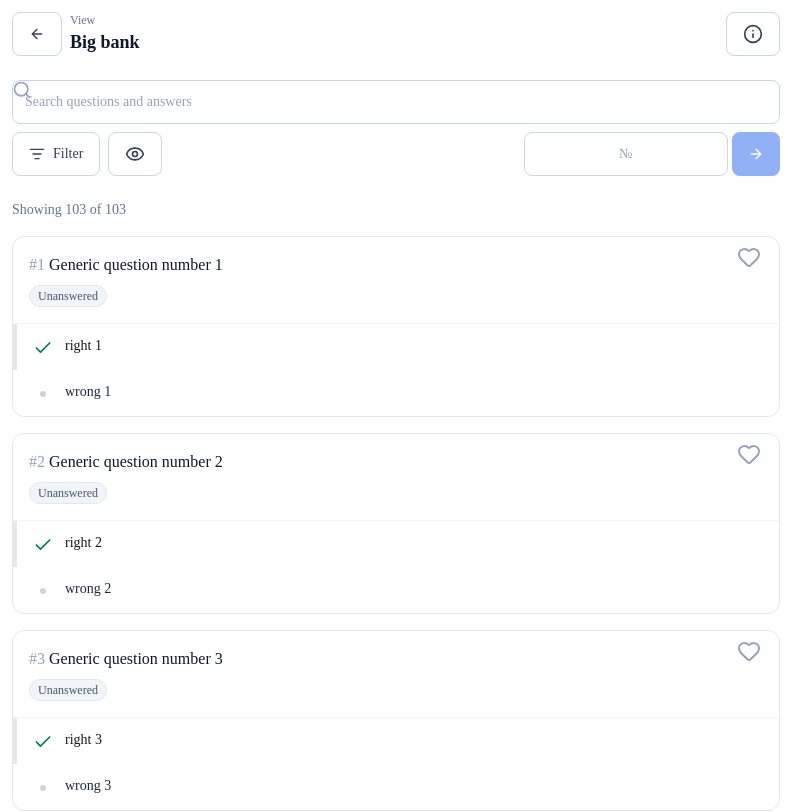
search › finds Tajik text typed with Russian letters
The width and height of the screenshot is (801, 812).
In the search field: (396, 102) [12, 80, 780, 124], type "точикистон"
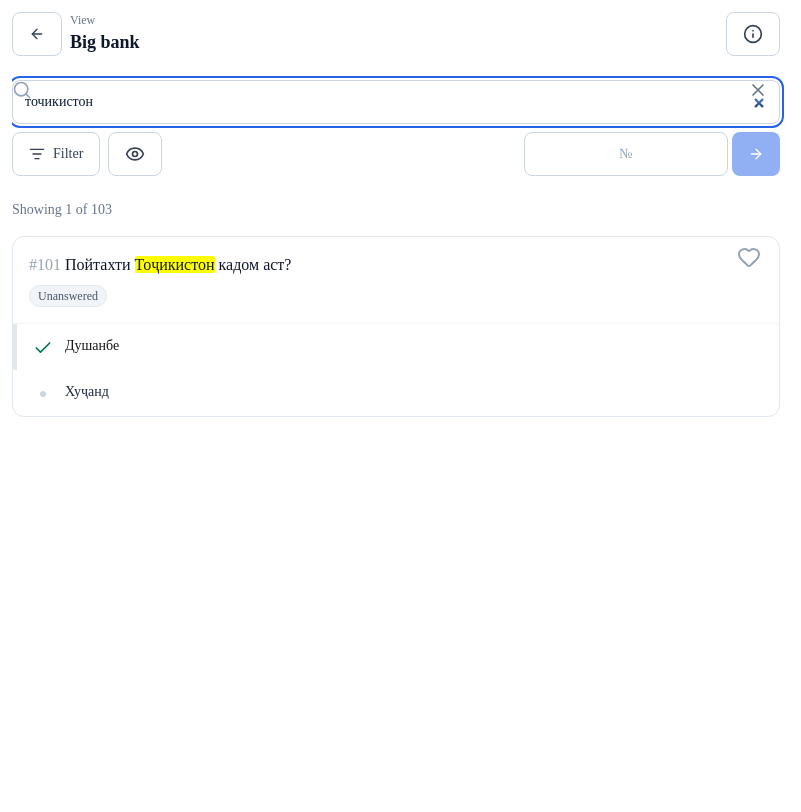
Result: the text "кадом аст?" is shown at [214, 256, 291, 273]
Result: the text "Тоҷикистон" is shown at [135, 256, 215, 273]
